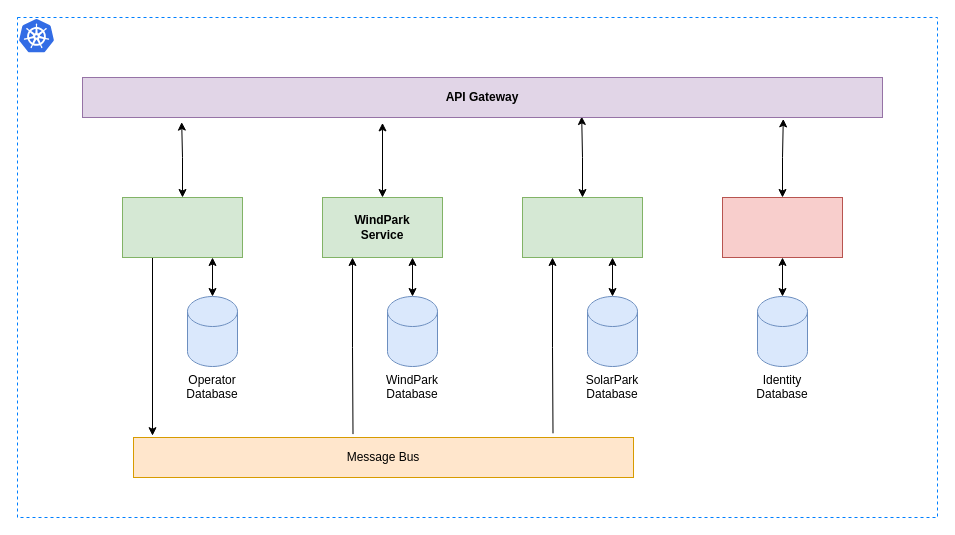
Some shapes in this 955 by 535 pixel diagram are drawn without their labels. The centre of each missing label's shape, as x and y in pixels:
"Identity Service" goes at (782,227).
"Kubernetes" goes at (36,36).
"Operator Service" goes at (182,227).
"SolarPark Service" goes at (582,227).
